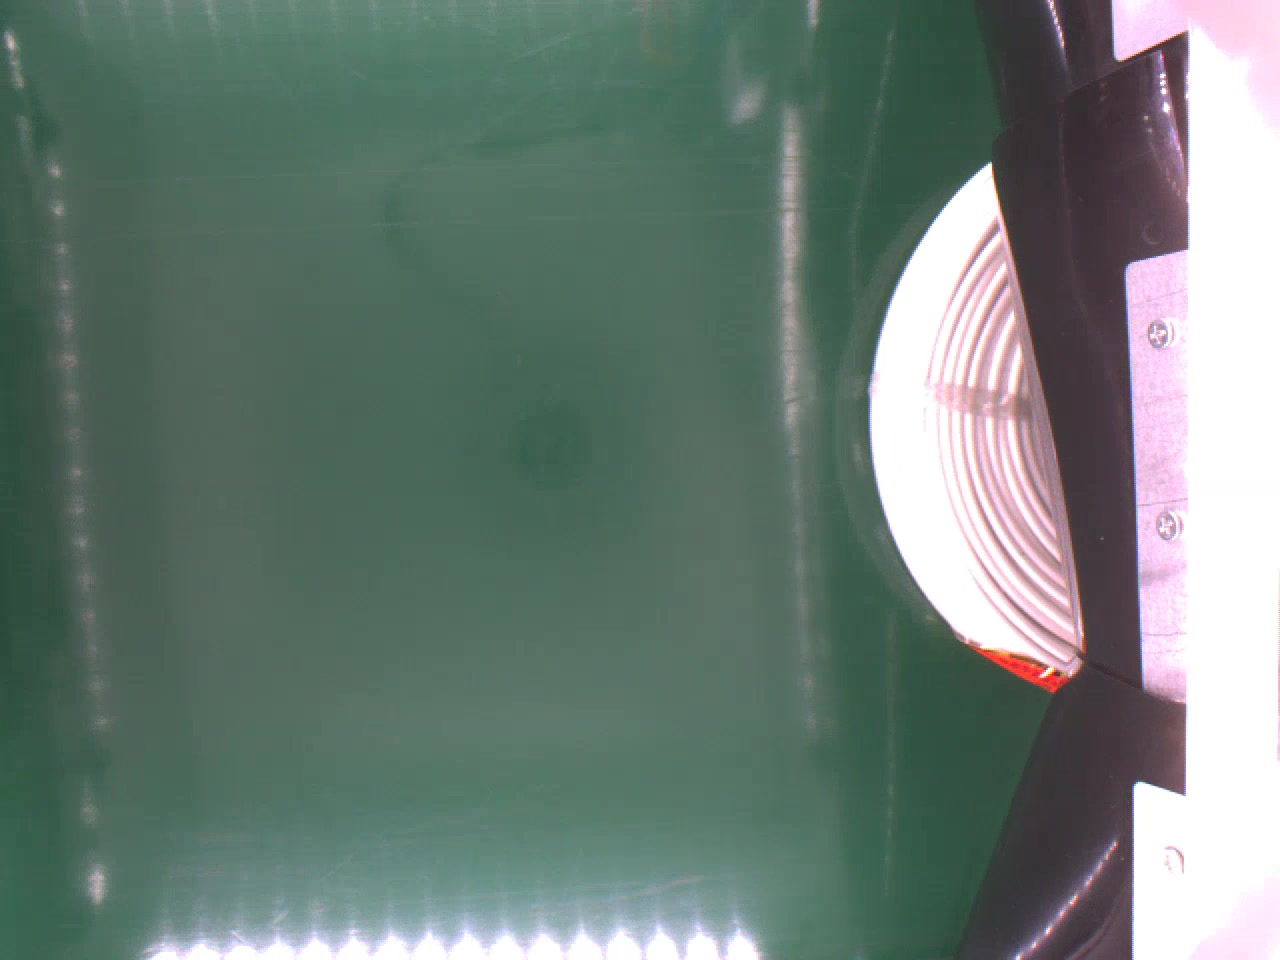white: (866, 151, 1083, 687)
